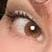eye: (25, 23, 40, 38)
